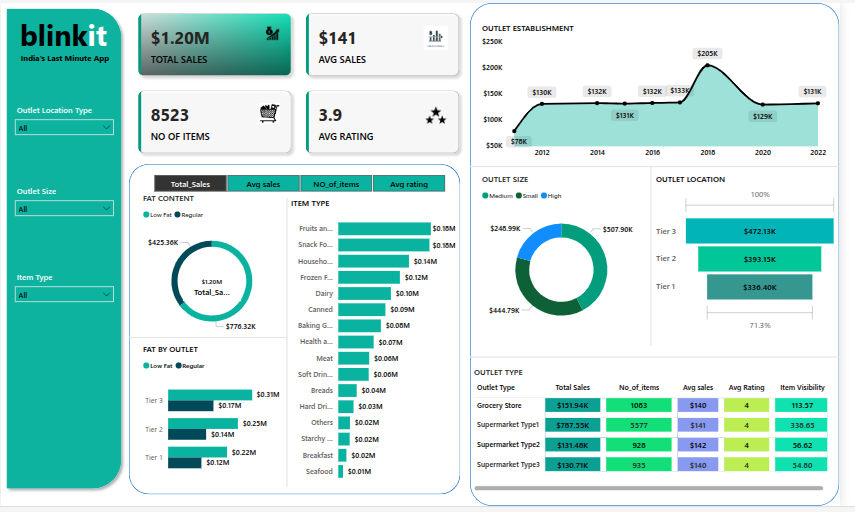

Layout of this report page (visuals, bound fields, positions):
{"tool":"powerbi","page":{"name":"Page 1","canvas":[1400,840],"ordinal":0},"visuals":[{"type":"shape","box":[0,0,210,820],"z":0},{"type":"textbox","box":[26,14.9,169.1,79.9],"z":1000},{"type":"textbox","box":[0,78.1,213.7,33.5],"z":2000},{"type":"cardVisual","fields":{"Data":["Dax_Calculation.Total_Sales","Dax_Calculation.Average_sales","Dax_Calculation.NO_of_items","Dax_Calculation.Average_rating"]},"box":[211.7,0,571.7,268.3],"z":3000},{"type":"shape","box":[213.3,268.3,553.3,551.7],"z":4000},{"type":"donutChart","title":"FAT CONTENT","fields":{"Y":["Dax_Calculation.Total_Sales"],"Category":["BlinkIT Grocery Data.Item Fat Content"]},"box":[231.7,316.7,240,250],"z":5000},{"type":"slicer","fields":{"Values":["Metrics.Metrics"]},"box":[230,280,535,40],"z":6000},{"type":"cardVisual","fields":{"Data":["Dax_Calculation.Total_Sales"]},"box":[303.3,441.7,96.7,56.7],"z":6001},{"type":"clusteredBarChart","title":"FAT BY OUTLET","fields":{"Y":["Dax_Calculation.Total_Sales"],"Category":["BlinkIT Grocery Data.Outlet Location Type"],"Series":["BlinkIT Grocery Data.Item Fat Content"]},"box":[231.7,570,238.3,233.3],"z":6002},{"type":"shape","box":[466.7,325,23.3,483.3],"z":6003},{"type":"shape","box":[213.3,551.7,265,15],"z":6004},{"type":"barChart","title":"ITEM TYPE","fields":{"Category":["BlinkIT Grocery Data.Item Type"],"Y":["Dax_Calculation.Total_Sales"]},"box":[480,325,285,483.3],"z":6005},{"type":"shape","box":[783.3,0,616.7,840],"z":6006},{"type":"lineChart","title":"OUTLET ESTABLISHMENT","fields":{"Y":["Dax_Calculation.Total_Sales"],"Category":["BlinkIT Grocery Data.Outlet Establishment Year"]},"box":[798.3,33.3,585,235],"z":6007},{"type":"shape","box":[783.3,265,616.7,15],"z":6008},{"type":"donutChart","title":"OUTLET SIZE","fields":{"Y":["Dax_Calculation.Total_Sales"],"Category":["BlinkIT Grocery Data.Outlet Size"]},"box":[798.3,285,275,275],"z":6009},{"type":"shape","box":[1073.3,273.3,23.3,298.3],"z":6010},{"type":"funnel","title":"OUTLET LOCATION","fields":{"Y":["Dax_Calculation.Total_Sales"],"Category":["BlinkIT Grocery Data.Outlet Location Type"]},"box":[1088.3,285,311.7,266.7],"z":6011},{"type":"pivotTable","title":"OUTLET TYPE","fields":{"Rows":["BlinkIT Grocery Data.Outlet Type"],"Values":["Dax_Calculation.Total_Sales","Dax_Calculation.NO_of_items","Dax_Calculation.Avg sales","Dax_Calculation.Avg Rating","Sum(BlinkIT Grocery Data.Item Visibility)"]},"box":[785,608.3,600,211.7],"z":6012},{"type":"shape","box":[783.3,585,616.7,13.3],"z":6013},{"type":"slicer","fields":{"Values":["BlinkIT Grocery Data.Outlet Location Type"]},"box":[13.3,165,185,63.3],"z":6014},{"type":"slicer","fields":{"Values":["BlinkIT Grocery Data.Outlet Size"]},"box":[13.3,300,185,63.3],"z":6015},{"type":"slicer","fields":{"Values":["BlinkIT Grocery Data.Item Type"]},"box":[13.3,445,185,63.3],"z":6016}]}

Visuals, with their boxes in screenshot pixels (x1, y1, x2, y2), scaled from the page's 1400x840 canvas onto the 855x512 screenshot:
shape: region(0, 0, 128, 500)
textbox: region(16, 9, 119, 58)
textbox: region(0, 48, 131, 68)
cardVisual - Dax_Calculation.Total_Sales x Dax_Calculation.Average_sales: region(129, 0, 478, 164)
shape: region(130, 164, 468, 500)
"FAT CONTENT" donutChart: region(142, 193, 288, 345)
slicer - Metrics.Metrics: region(140, 171, 467, 195)
cardVisual - Dax_Calculation.Total_Sales: region(185, 269, 244, 304)
"FAT BY OUTLET" clusteredBarChart: region(142, 347, 287, 490)
shape: region(285, 198, 299, 493)
shape: region(130, 336, 292, 345)
"ITEM TYPE" barChart: region(293, 198, 467, 493)
shape: region(478, 0, 854, 511)
"OUTLET ESTABLISHMENT" lineChart: region(488, 20, 845, 164)
shape: region(478, 162, 854, 171)
"OUTLET SIZE" donutChart: region(488, 174, 655, 341)
shape: region(655, 167, 670, 348)
"OUTLET LOCATION" funnel: region(665, 174, 854, 336)
"OUTLET TYPE" pivotTable: region(479, 371, 846, 500)
shape: region(478, 357, 854, 365)
slicer - BlinkIT Grocery Data.Outlet Location Type: region(8, 101, 121, 139)
slicer - BlinkIT Grocery Data.Outlet Size: region(8, 183, 121, 221)
slicer - BlinkIT Grocery Data.Item Type: region(8, 271, 121, 310)
